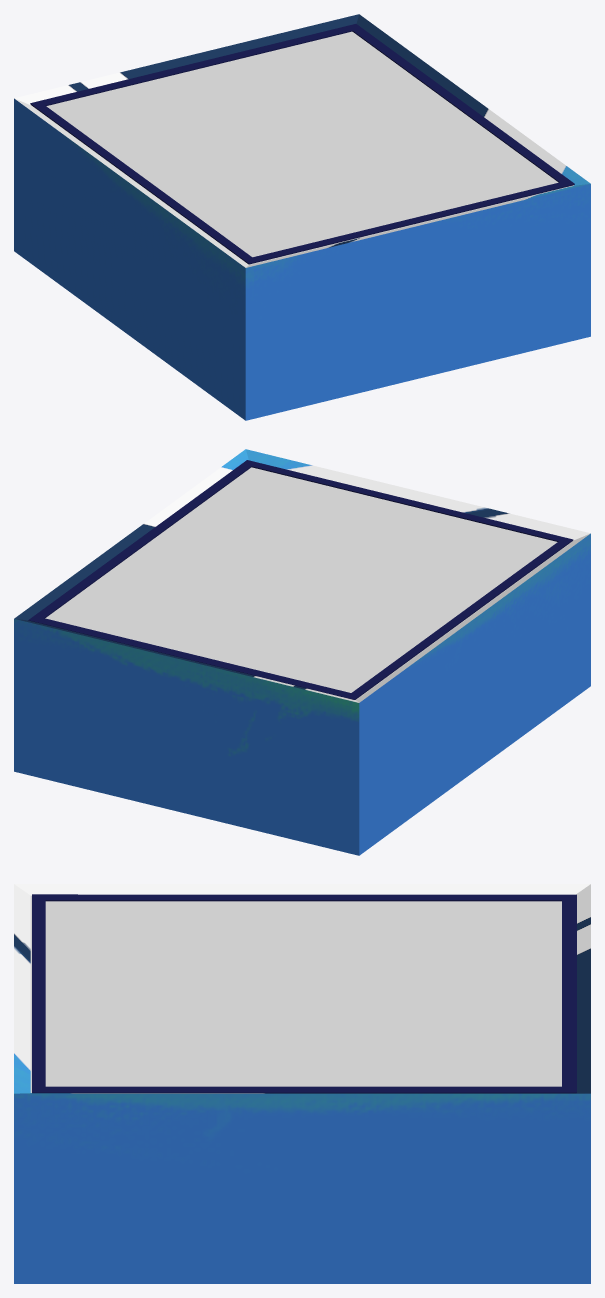
File: body mod sklep114.fbx
3 views of the same model, one above another, from view 1: azimuth 30°, elevation 25°; view 2: azimuth 150°, elevation 25°; view 3: azimuth 270°, elevation 25° (orthographic). The views are drawn at different scales.
Visible parts, largest first — view 1: BM_bodymodifications_sklep, BM_strop_b, BM_svetla_b; view 2: BM_bodymodifications_sklep, BM_strop_b, BM_svetla_b; view 3: BM_bodymodifications_sklep, BM_strop_b, BM_svetla_b.
Part boxes in pixels (x1,y1,x2,y2): BM_bodymodifications_sklep: (14,14,590,420); BM_strop_b: (31,31,573,264); BM_svetla_b: (30,24,574,264); BM_bodymodifications_sklep: (14,449,590,855); BM_strop_b: (45,467,573,699); BM_svetla_b: (28,460,573,699); BM_bodymodifications_sklep: (14,884,590,1283); BM_strop_b: (30,895,561,1092); BM_svetla_b: (32,894,576,1093).
Size of the model in its own units: 689 by 292 by 802.
